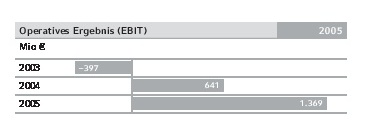table: (0, 0, 366, 130)
